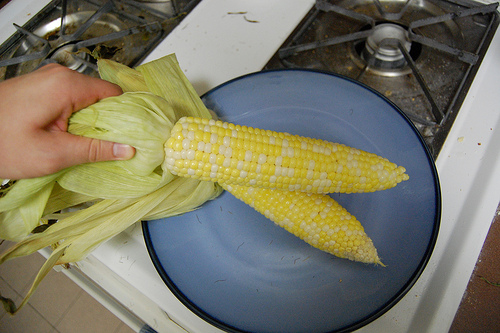corn: (163, 113, 410, 193), (218, 183, 384, 270)
